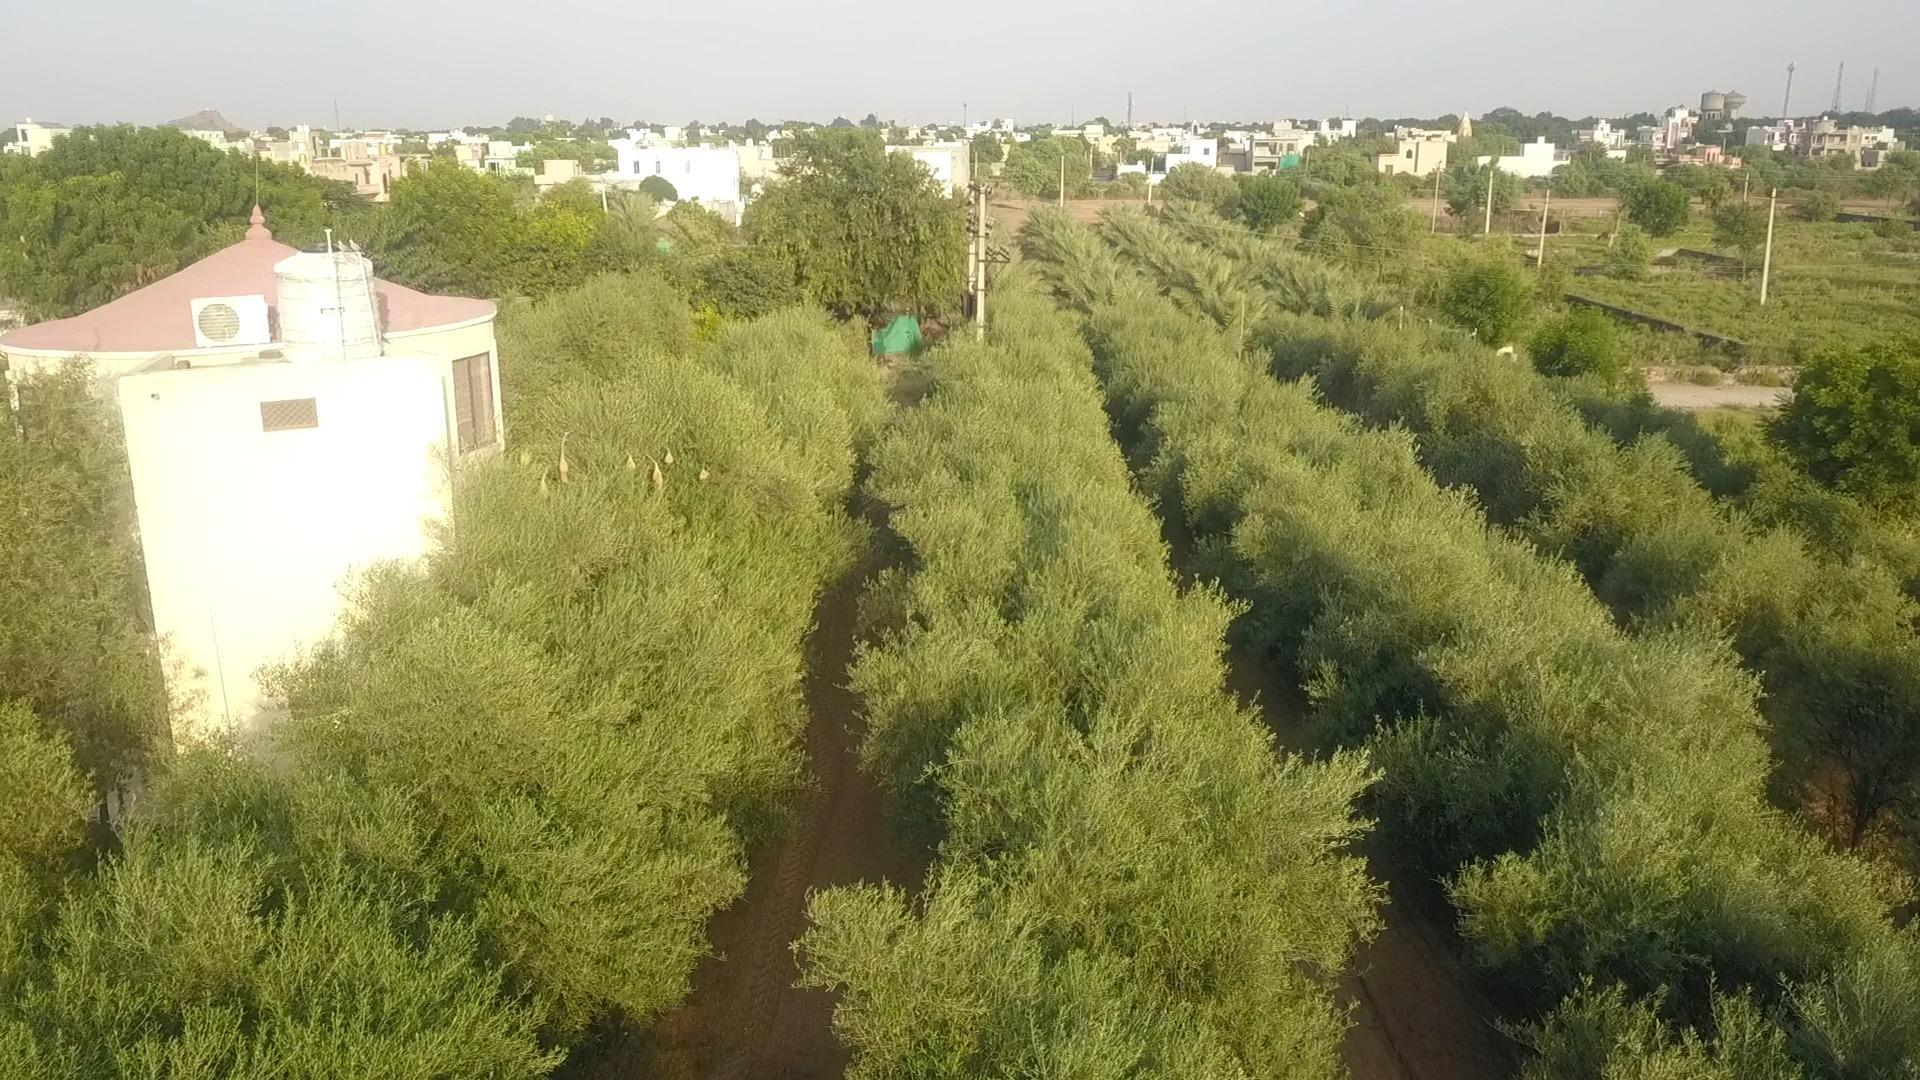canopy: (0, 309, 893, 1079), (1081, 297, 1919, 1079), (808, 295, 1378, 1079), (1253, 313, 1919, 708)
road: (630, 549, 934, 1079), (1229, 649, 1511, 1079)
